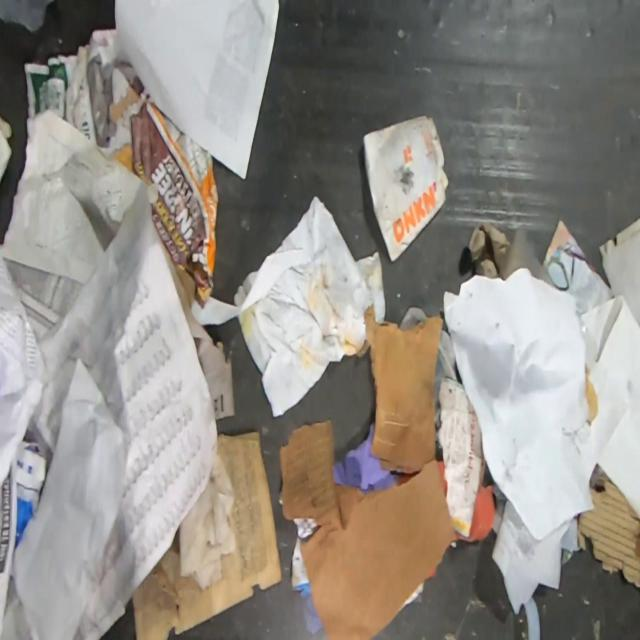cardboard: (278, 418, 458, 639), (365, 305, 444, 473), (362, 115, 449, 263), (578, 477, 640, 590), (15, 441, 47, 552)
soft_plastic: (500, 227, 553, 285)
